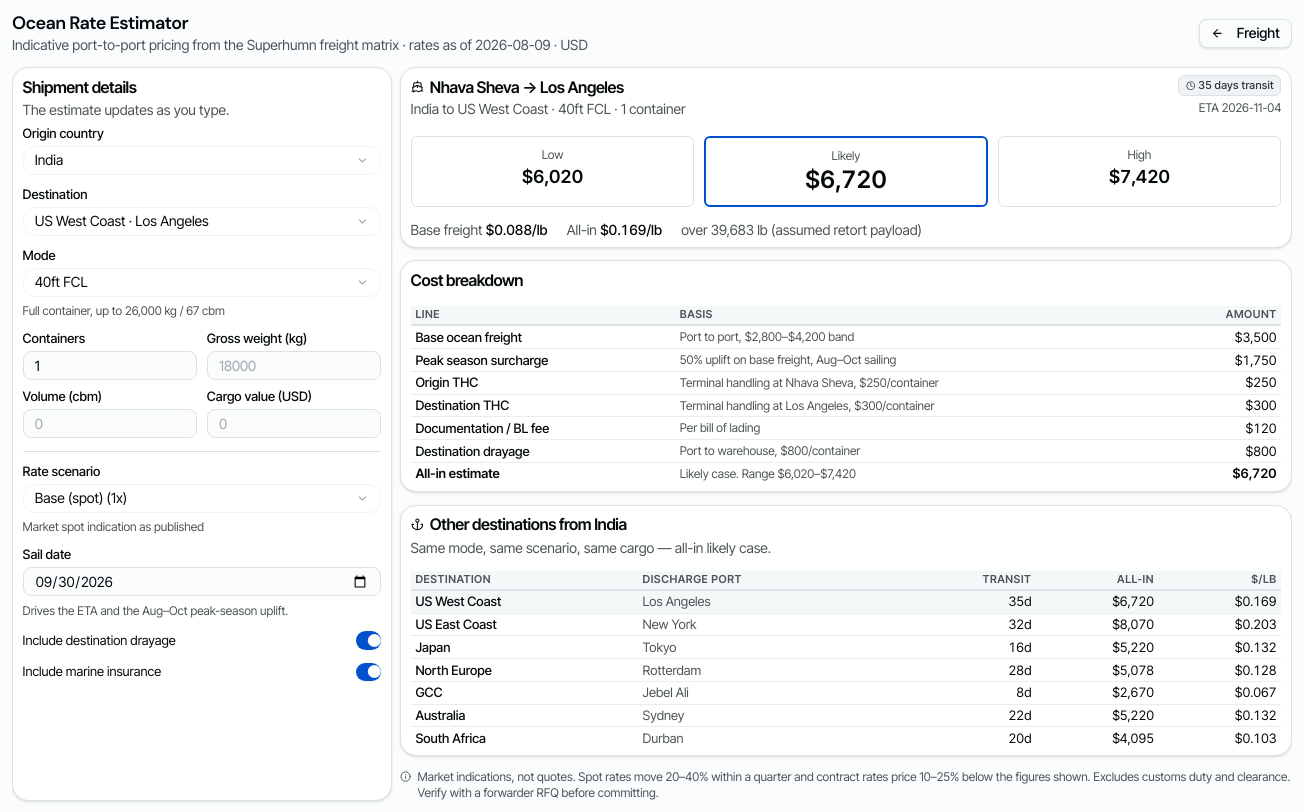
Test: RateEstimator › previews the default India to US West Coast 40ft lane
The width and height of the screenshot is (1304, 812).
Type "2026-03-01" into the date field labelled "Sail date" at [202, 582], box [23,567,381,596]
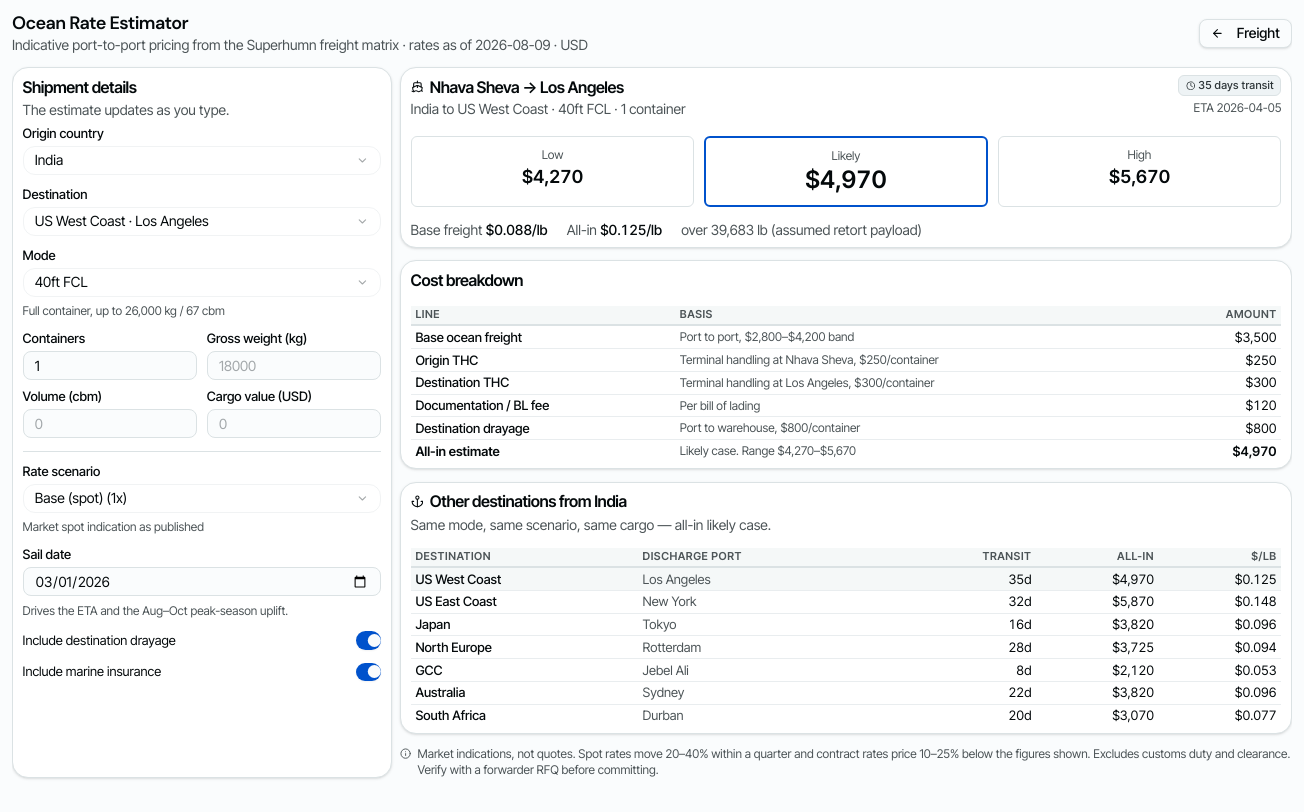
Expected: the text "Nhava Sheva → Los Angeles" is shown, [411,77,624,97]
Result: the text "$0.125/lb" is shown at [600,221,662,238]
